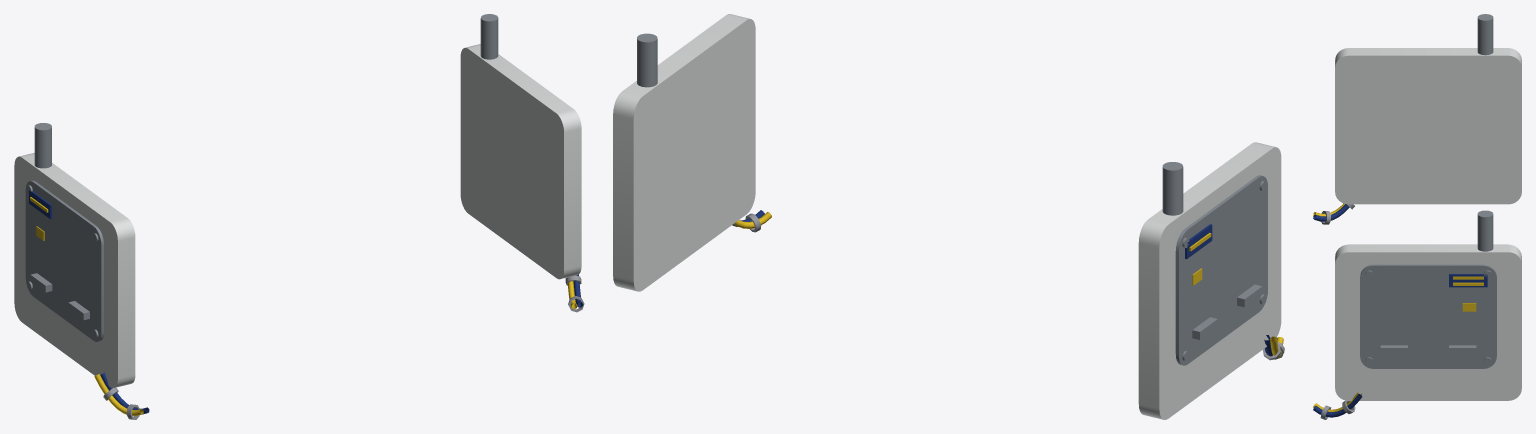
3 renders of one model, left to right at view 1: azimuth 30°, elevation 25°; view 2: azimuth 150°, elevation 25°; view 3: azimuth 270°, elevation 25°, orthographic. The views are drawn at different scales.
Visible parts, largest first — view 1: l4_o2; view 2: l4_o2; view 3: l4_o2.
Part boxes in pixels (x1,y1,x2,y2): l4_o2: (14, 14, 584, 419); l4_o2: (613, 14, 1284, 419); l4_o2: (1313, 14, 1521, 419).
Bounding box in the file's own units: 2.21 × 1 × 0.9167.
